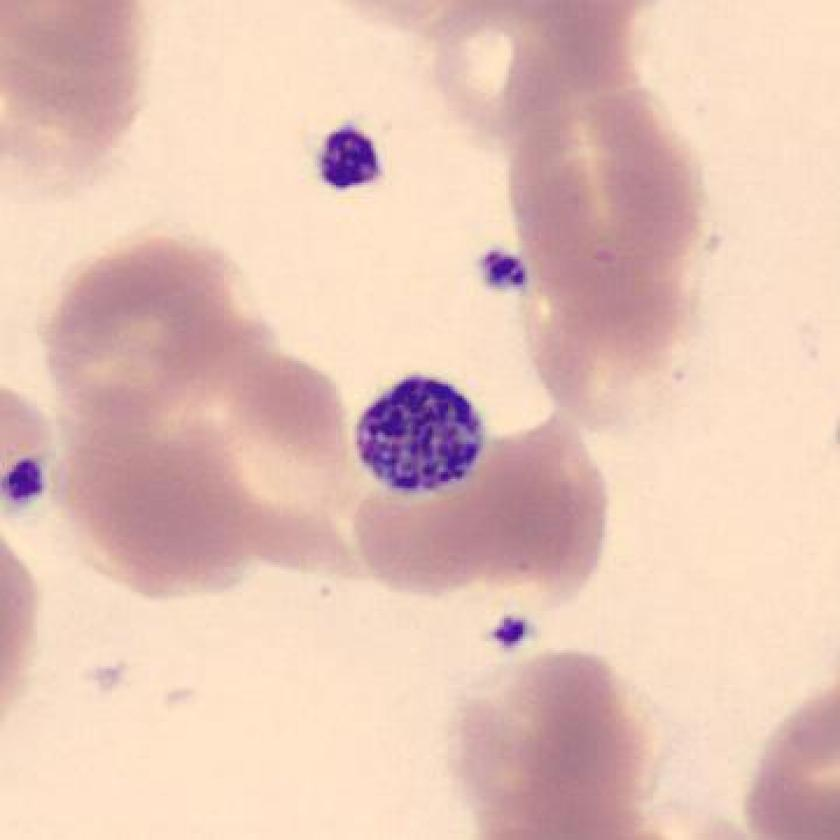platelets: (346, 362, 498, 508), (300, 108, 393, 210), (461, 228, 542, 304), (477, 598, 554, 667), (1, 448, 64, 526)
